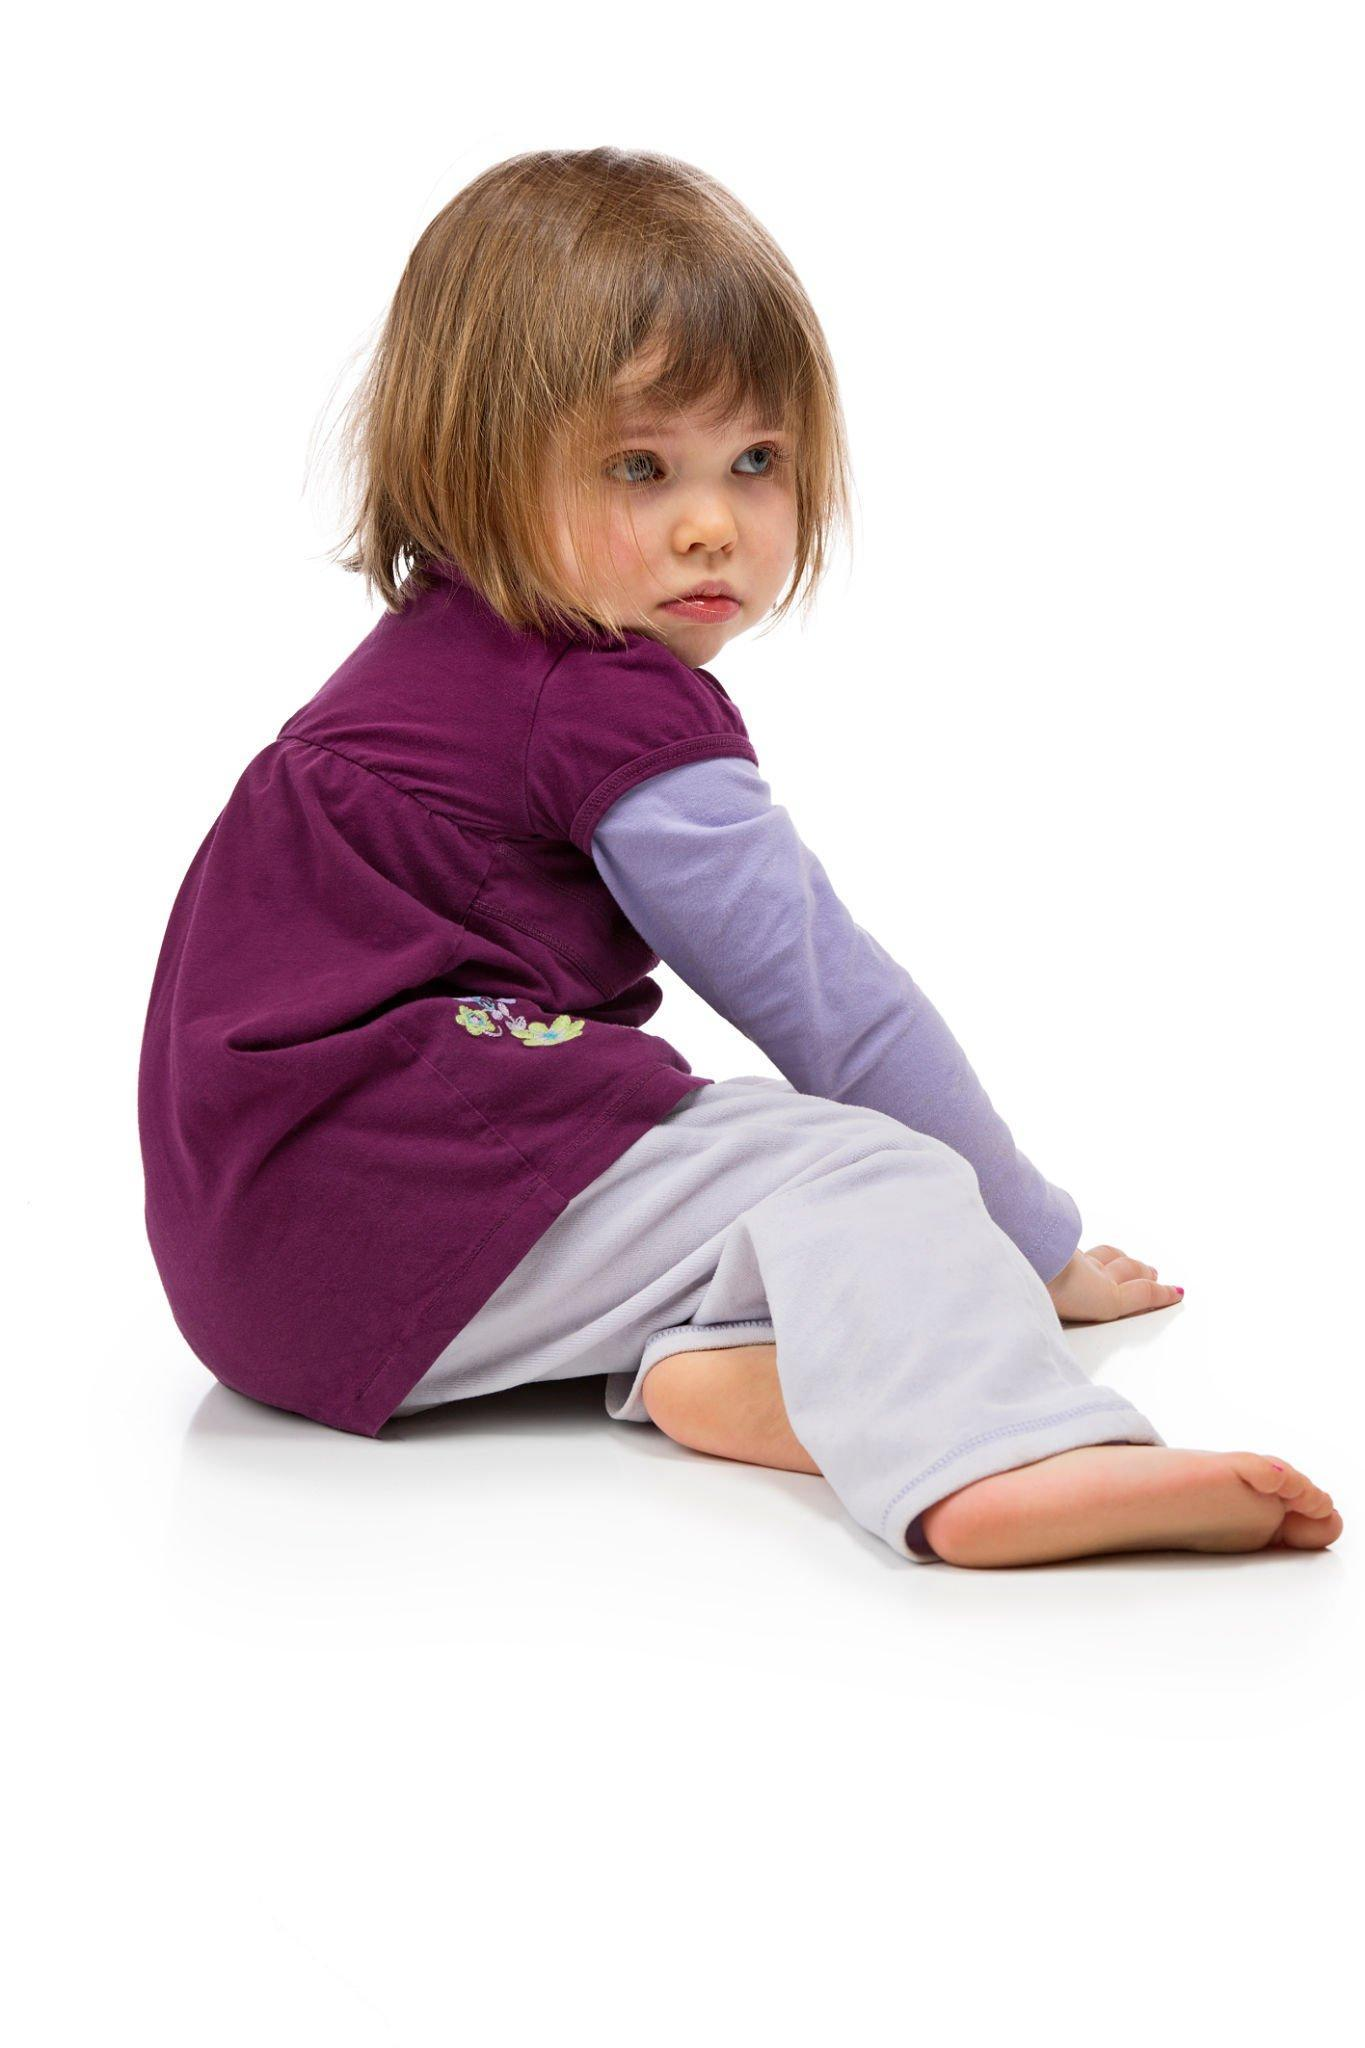Healthy: (512, 266, 849, 676)
